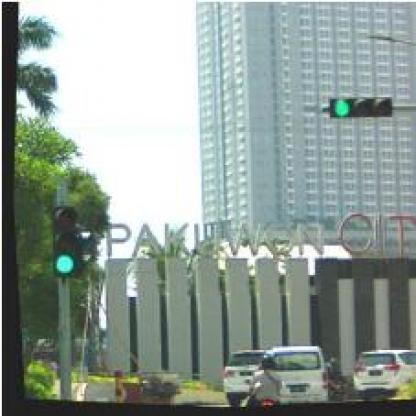green: (43, 205, 74, 279), (325, 97, 393, 123)
